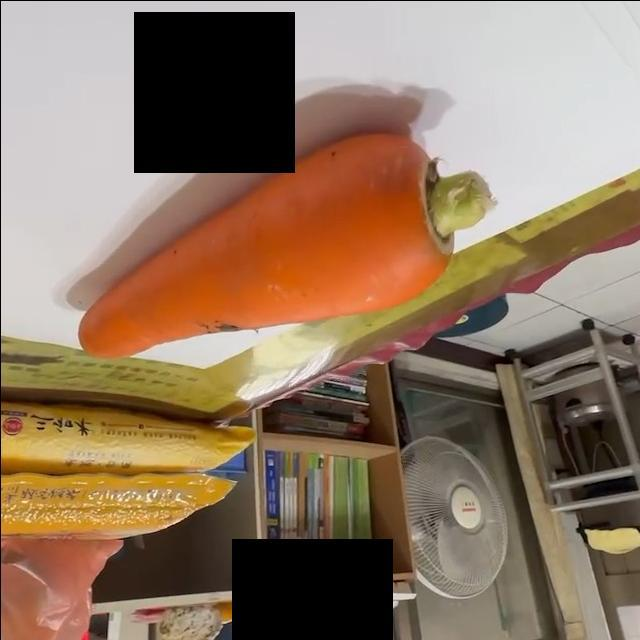carrot: (80, 129, 492, 361)
